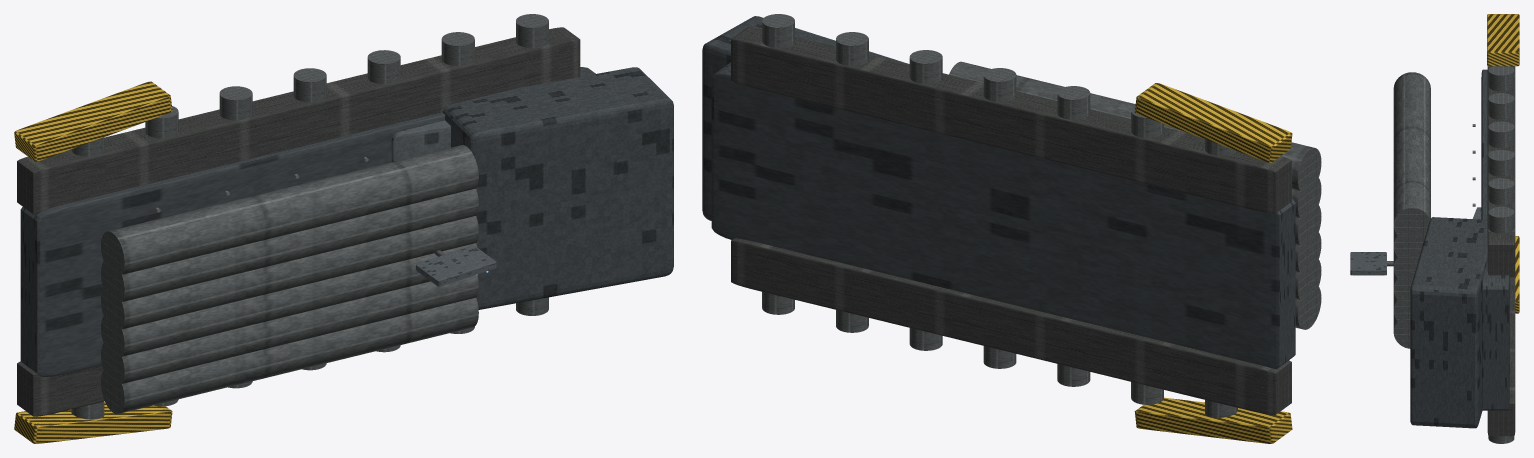
Rendered from s-x02-specter-cruise-lod0.glb.
3 views of the same model, side by side, from view 1: azimuth 30°, elevation 25°; view 2: azimuth 150°, elevation 25°; view 3: azimuth 270°, elevation 25° (orthographic). The views are drawn at different scales.
Visible parts, largest first — view 1: strategic_cab, strategic_track_1, strategic_lower, cruise_canister_5, cruise_canister_0, cruise_canister_3, cruise_canister_4, cruise_canister_1, cruise_canister_2, strategic_jack_1, strategic_jack_-1, strategic_track_-1 (+8 smaller); view 2: strategic_lower, strategic_track_1, strategic_track_-1, strategic_jack_1, strategic_jack_-1, cruise_canister_5, strategic_cab, strategic_roadwheel_1_2, strategic_roadwheel_1_3, strategic_roadwheel_1_4, strategic_roadwheel_1_5, strategic_roadwheel_1_6 (+12 smaller); view 3: strategic_cab, cruise_canister_5, strategic_lower, strategic_track_1, strategic_jack_1, strategic_track_-1, cruise_radar_array, cruise_canister_4, strategic_roadwheel_1_2, strategic_roadwheel_1_3, strategic_roadwheel_1_6, strategic_roadwheel_1_4 (+8 smaller).
Part boxes in pixels (left/top/right/bottom): strategic_cab: left=443, top=67, right=673, bottom=309; strategic_track_1: left=17, top=27, right=580, bottom=214; strategic_lower: left=20, top=67, right=595, bottom=376; cruise_canister_5: left=101, top=145, right=478, bottom=277; cruise_canister_0: left=101, top=297, right=478, bottom=414; cruise_canister_3: left=101, top=216, right=478, bottom=332; cruise_canister_4: left=101, top=188, right=478, bottom=304; cruise_canister_1: left=101, top=275, right=478, bottom=386; cruise_canister_2: left=101, top=243, right=477, bottom=358; strategic_jack_1: left=14, top=81, right=172, bottom=161; strategic_jack_-1: left=14, top=402, right=172, bottom=443; strategic_track_-1: left=17, top=361, right=104, bottom=416; strategic_lower: left=711, top=62, right=1295, bottom=369; strategic_track_1: left=731, top=27, right=1291, bottom=213; strategic_track_-1: left=731, top=238, right=1291, bottom=415; strategic_jack_1: left=1134, top=83, right=1292, bottom=162; strategic_jack_-1: left=1134, top=397, right=1292, bottom=443; cruise_canister_5: left=949, top=61, right=1321, bottom=193; strategic_cab: left=702, top=16, right=909, bottom=220; strategic_roadwheel_1_2: left=1057, top=86, right=1090, bottom=119; strategic_roadwheel_1_3: left=983, top=68, right=1016, bottom=101; strategic_roadwheel_1_4: left=909, top=50, right=942, bottom=83; strategic_roadwheel_1_5: left=836, top=32, right=868, bottom=65; strategic_roadwheel_1_6: left=762, top=14, right=794, bottom=47; strategic_cab: left=1410, top=217, right=1487, bottom=428; cruise_canister_5: left=1393, top=72, right=1430, bottom=238; strategic_lower: left=1481, top=69, right=1509, bottom=410; strategic_track_1: left=1487, top=66, right=1515, bottom=277; strategic_jack_1: left=1487, top=14, right=1519, bottom=66; strategic_track_-1: left=1487, top=274, right=1515, bottom=436; cruise_radar_array: left=1350, top=252, right=1386, bottom=275; cruise_canister_4: left=1393, top=227, right=1425, bottom=262; strategic_roadwheel_1_2: left=1488, top=93, right=1514, bottom=119; strategic_roadwheel_1_3: left=1488, top=121, right=1514, bottom=148; strategic_roadwheel_1_6: left=1488, top=206, right=1514, bottom=233; strategic_roadwheel_1_4: left=1488, top=150, right=1514, bottom=176.
Size of what is drawn, in the model's own units: 10.01 by 5.29 by 3.11.
7 materials, 7 textured.
